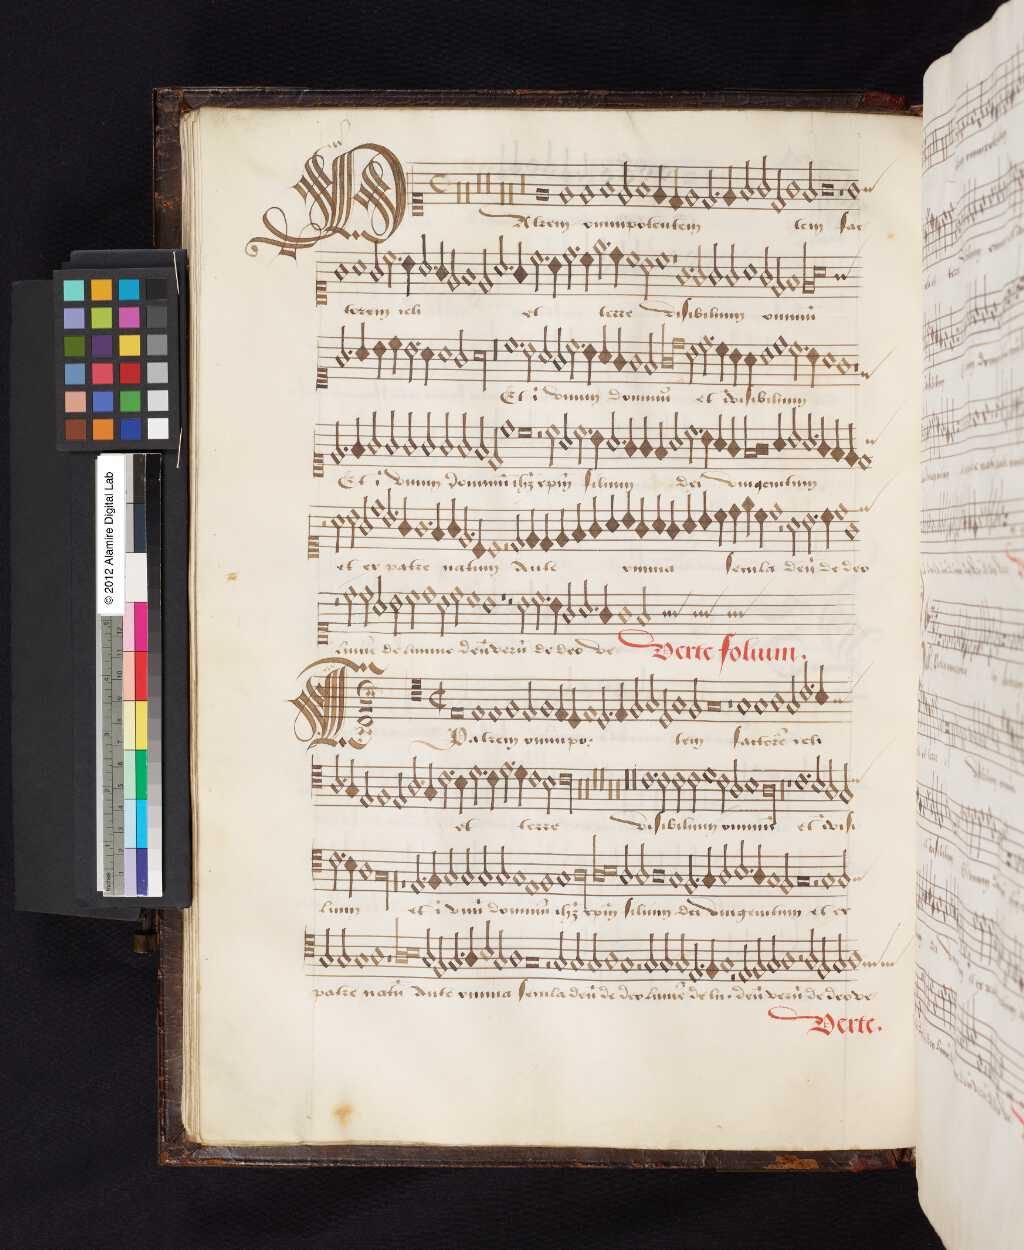c clef_11: (311, 350, 334, 401)
custos_9: (863, 350, 877, 382)
l1semibreve_7: (657, 319, 672, 376)
l2semibreve_3: (668, 332, 685, 374)
longa rest: (486, 319, 501, 393)
longa_6: (469, 338, 489, 400)
minim_3: (698, 331, 713, 378)
minim_4: (563, 330, 580, 384), (788, 333, 802, 384)
minim_5: (402, 332, 417, 388), (521, 335, 538, 385), (684, 338, 699, 387)
minim_6: (537, 318, 554, 366)
minim_7: (452, 320, 469, 372), (334, 318, 350, 375), (553, 320, 568, 376)
minim_8: (642, 325, 658, 381)
point: (343, 342, 357, 362), (703, 328, 718, 346), (514, 334, 526, 351), (798, 339, 809, 353), (412, 335, 423, 350), (575, 337, 585, 351), (382, 338, 389, 350)
semibreve rest: (854, 345, 860, 390)
semibreve_3: (773, 330, 790, 358)
semibreve_5: (757, 339, 775, 370), (501, 324, 511, 361)
semibreve_6: (436, 336, 454, 368), (820, 344, 837, 374)
semibreve_7: (627, 344, 644, 378), (836, 349, 853, 381)
semiminim_4: (387, 327, 402, 382), (715, 336, 728, 387)
semiminim_5: (372, 332, 388, 386), (582, 335, 598, 389), (805, 341, 820, 392), (728, 341, 742, 389)
semiminim_6: (420, 338, 436, 392), (743, 344, 758, 397), (354, 317, 370, 368), (597, 322, 612, 373)
semiminim_7: (612, 321, 628, 379)
